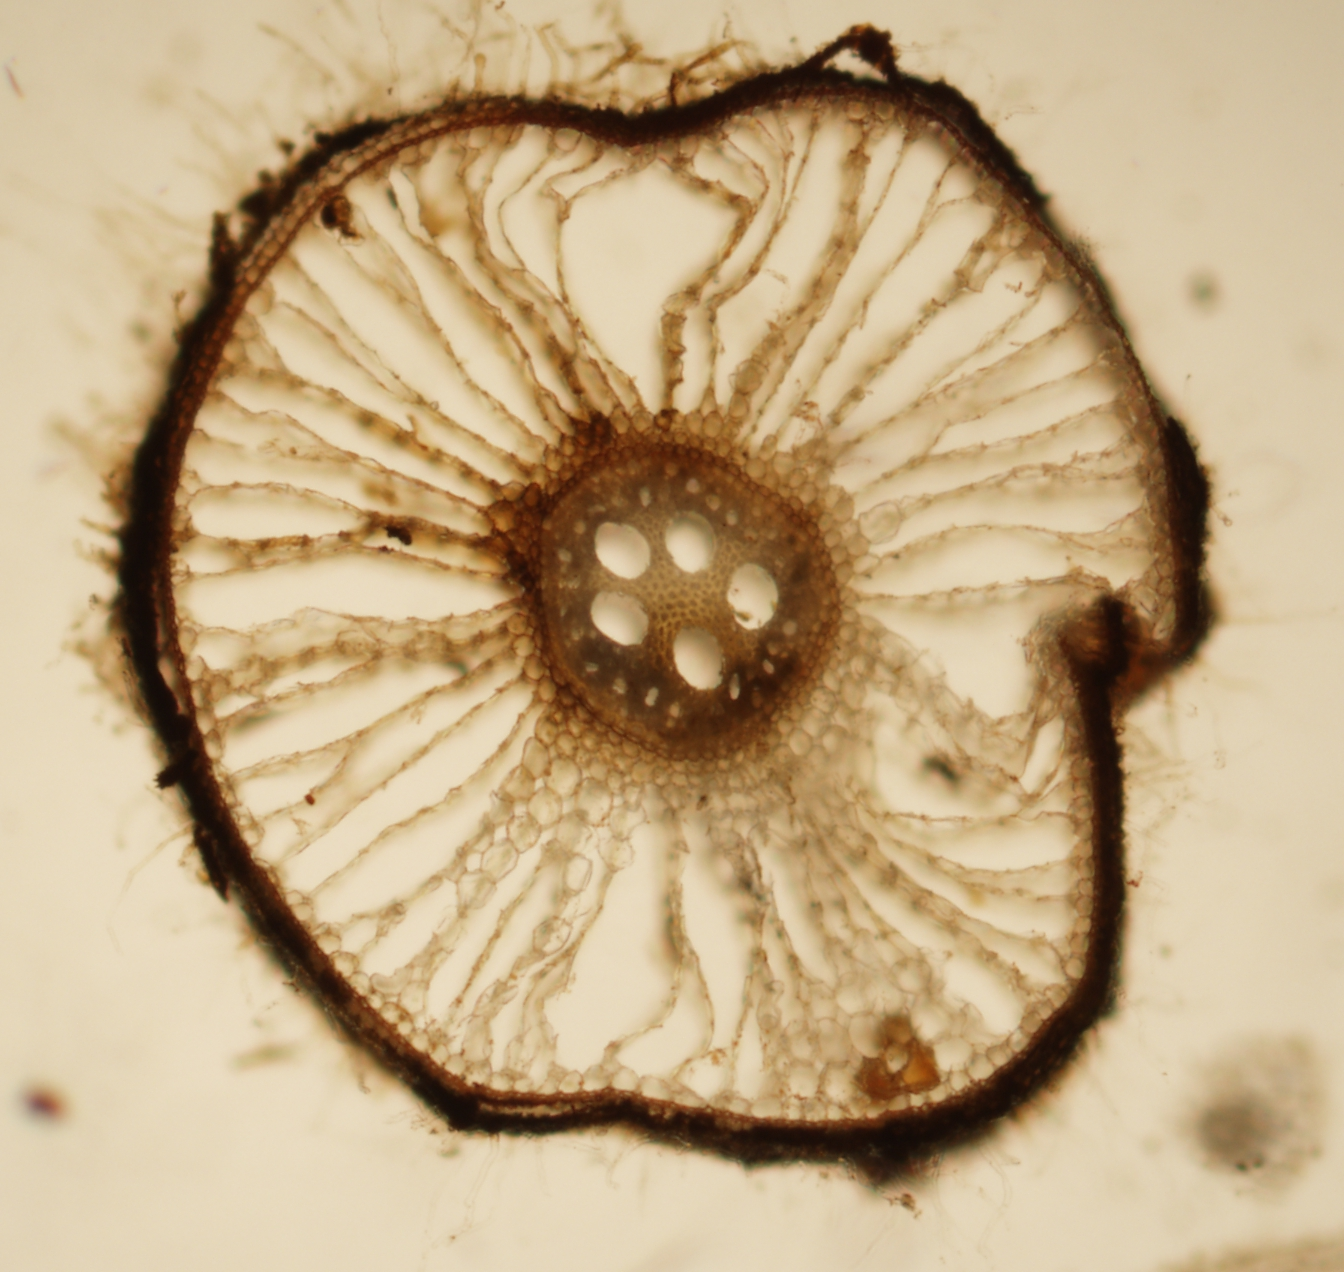lm: (726, 563, 778, 629), (662, 510, 717, 573), (672, 626, 726, 690), (589, 591, 650, 646), (594, 521, 650, 579)
